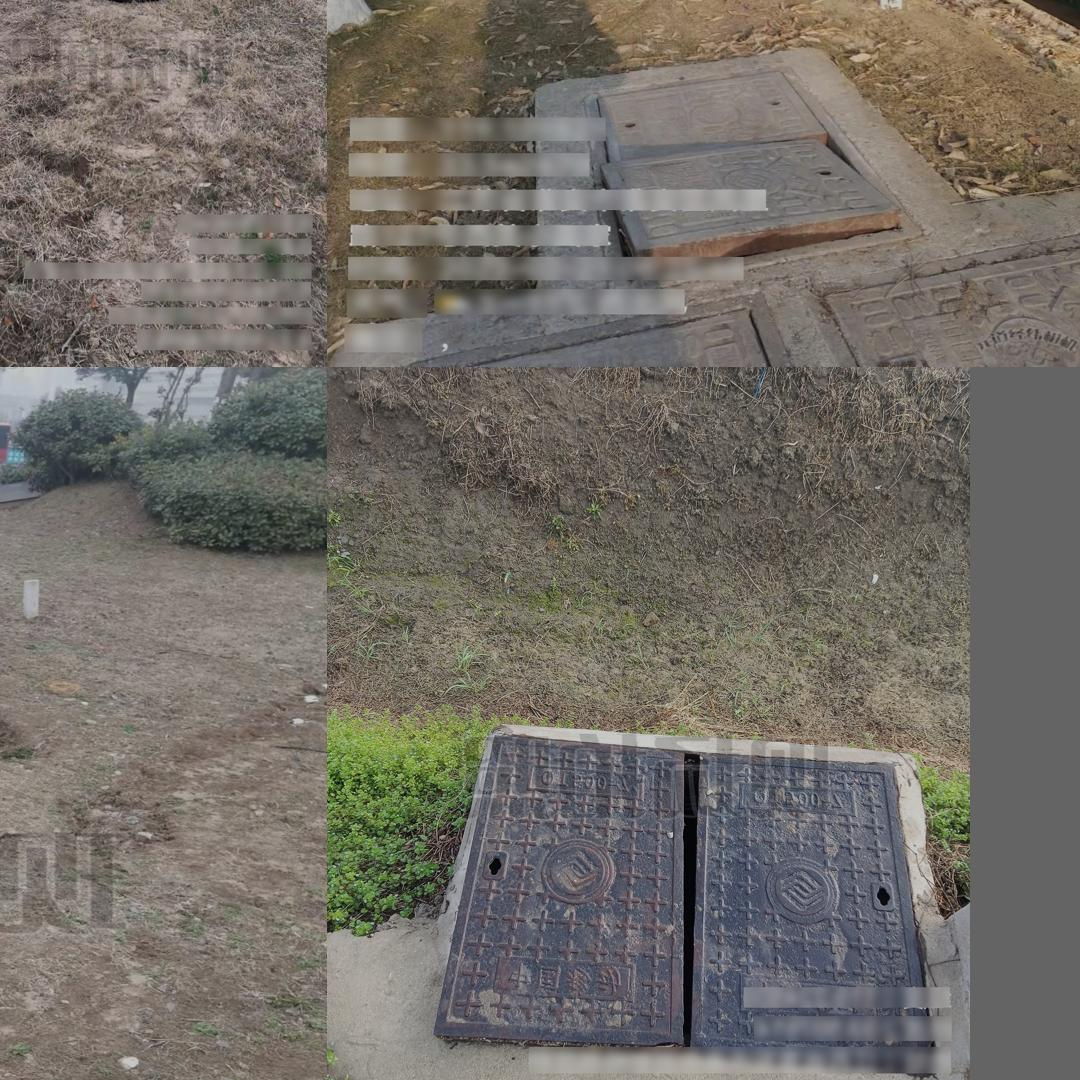uncovered: (419, 750, 925, 1038), (547, 66, 918, 238), (64, 0, 194, 5)
